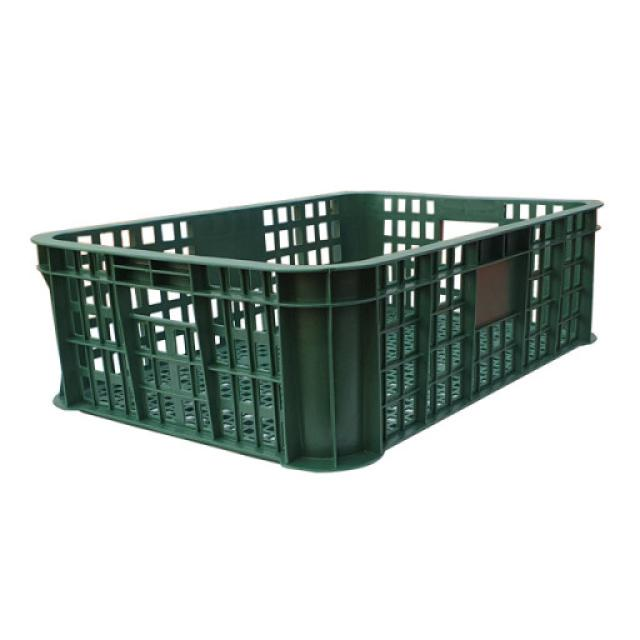basket: (31, 173, 621, 493)
